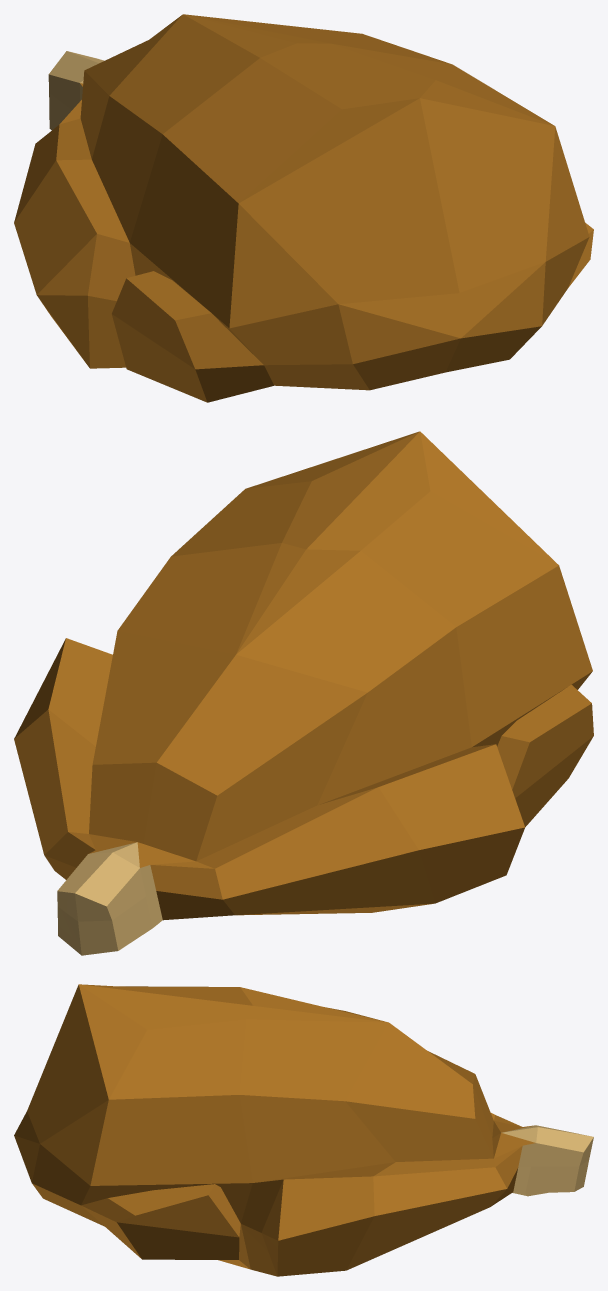
The model's file is meat.fbx.
The picture shows the model from 3 angles, top to bottom: view 1: azimuth 30°, elevation 25°; view 2: azimuth 150°, elevation 25°; view 3: azimuth 270°, elevation 25°; orthographic projection. The views are drawn at different scales.
Visible parts, largest first — view 1: meat; view 2: meat; view 3: meat.
Part boxes in pixels (x1=…): meat: x1=14, y1=14, x2=593, y2=402; meat: x1=14, y1=431, x2=593, y2=955; meat: x1=14, y1=984, x2=593, y2=1276.
Bounding box in the file's own units: 33.81 × 21.41 × 46.87.
